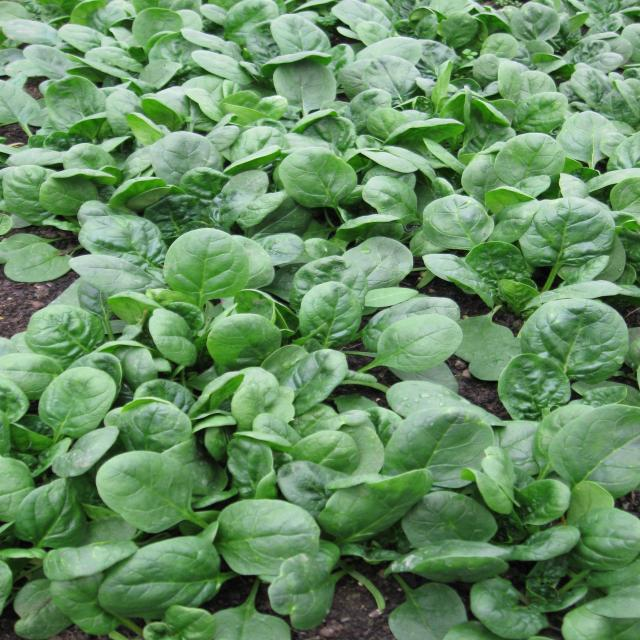spinach: (94, 449, 194, 536), (522, 196, 620, 282), (548, 403, 640, 482), (219, 496, 322, 561), (130, 536, 222, 606), (516, 298, 630, 354), (162, 226, 249, 298), (387, 406, 488, 466), (376, 312, 463, 373), (34, 367, 116, 430), (403, 491, 497, 544), (282, 143, 356, 210), (13, 481, 86, 544), (294, 279, 363, 345), (496, 355, 572, 414), (206, 312, 282, 361), (27, 304, 106, 351), (150, 132, 223, 172), (270, 62, 338, 103), (42, 73, 105, 117), (270, 11, 332, 55), (360, 54, 419, 95)
